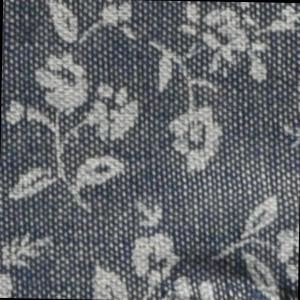Damage: (148, 273, 298, 300)
